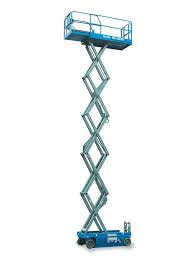Scissor Lift: (63, 10, 135, 250)
